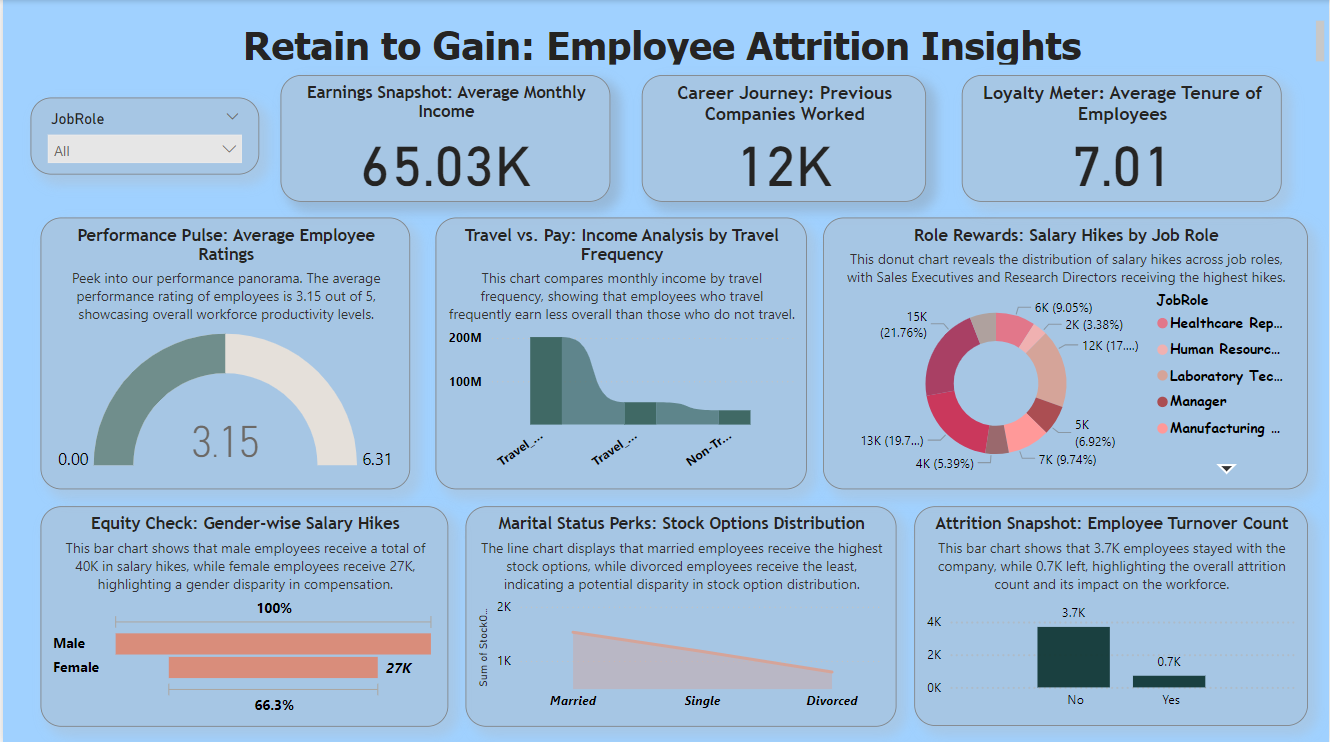

What the dashboard file says about the page in this screenshot:
{"tool":"powerbi","page":{"name":"Page 1","canvas":[1280,720],"ordinal":0},"visuals":[{"type":"card","title":"Earnings Snapshot: Average Monthly Income","fields":{"Values":["Avg(cleaned_file 1.MonthlyIncome)"]},"box":[267.6,72.7,318.4,122.1],"z":0},{"type":"columnChart","title":"Attrition Snapshot: Employee Turnover Count","fields":{"Category":["cleaned_file 1.Attrition"],"Y":["Sum(cleaned_file 1.EmployeeCount)"]},"box":[879.7,488.9,379.7,212],"z":1000},{"type":"card","title":"Career Journey: Previous Companies Worked","fields":{"Values":["Sum(cleaned_file 1.NumCompaniesWorked)"]},"box":[616.1,72.7,274.4,122.1],"z":2000},{"type":"donutChart","title":"Role Rewards: Salary Hikes by Job Role","fields":{"Y":["Sum(cleaned_file 1.PercentSalaryHike)"],"Series":["cleaned_file 1.JobRole"]},"box":[791.8,209.9,467.9,262.1],"z":3000},{"type":"card","title":"Loyalty Meter: Average Tenure of Employees","fields":{"Values":["Avg(cleaned_file 1.YearsAtCompany)"]},"box":[924.9,72.7,308.7,122.1],"z":4000},{"type":"ribbonChart","title":"Travel vs. Pay: Income Analysis by Travel Frequency","fields":{"Category":["cleaned_file 1.BusinessTravel"],"Y":["Sum(cleaned_file 1.MonthlyIncome)"]},"box":[417.2,209.9,358.1,262.1],"z":5000},{"type":"gauge","title":"Performance Pulse: Average Employee Ratings","fields":{"Y":["Avg(cleaned_file 1.PerformanceRating)"]},"box":[35.7,209.9,356.8,262.1],"z":6000},{"type":"stackedAreaChart","title":"Marital Status Perks: Stock Options Distribution","fields":{"Category":["cleaned_file 1.MaritalStatus"],"Y":["Sum(cleaned_file 1.StockOptionLevel)"]},"box":[446,488.5,415.8,212.7],"z":7000},{"type":"funnel","title":"Equity Check: Gender-wise Salary Hikes","fields":{"Category":["cleaned_file 1.Gender"],"Y":["Sum(cleaned_file 1.PercentSalaryHike)"]},"box":[35.7,488.5,393.8,212.7],"z":8000},{"type":"textbox","box":[0,0,1280.3,82.3],"z":9000},{"type":"slicer","fields":{"Values":["cleaned_file 1.JobRole"]},"box":[26.1,94.7,220.9,74.1],"z":10000}]}

Visuals, with their boxes in screenshot pixels (x1, y1, x2, y2), scaled from the page's 1280x720 canvas onto the 1330x742 screenshot:
"Earnings Snapshot: Average Monthly Income" card: crop(278, 75, 609, 201)
"Attrition Snapshot: Employee Turnover Count" columnChart: crop(914, 504, 1309, 722)
"Career Journey: Previous Companies Worked" card: crop(640, 75, 925, 201)
"Role Rewards: Salary Hikes by Job Role" donutChart: crop(823, 216, 1309, 486)
"Loyalty Meter: Average Tenure of Employees" card: crop(961, 75, 1282, 201)
"Travel vs. Pay: Income Analysis by Travel Frequency" ribbonChart: crop(433, 216, 806, 486)
"Performance Pulse: Average Employee Ratings" gauge: crop(37, 216, 408, 486)
"Marital Status Perks: Stock Options Distribution" stackedAreaChart: crop(463, 503, 895, 723)
"Equity Check: Gender-wise Salary Hikes" funnel: crop(37, 503, 446, 723)
textbox: crop(0, 0, 1329, 85)
slicer - cleaned_file 1.JobRole: crop(27, 98, 257, 174)
